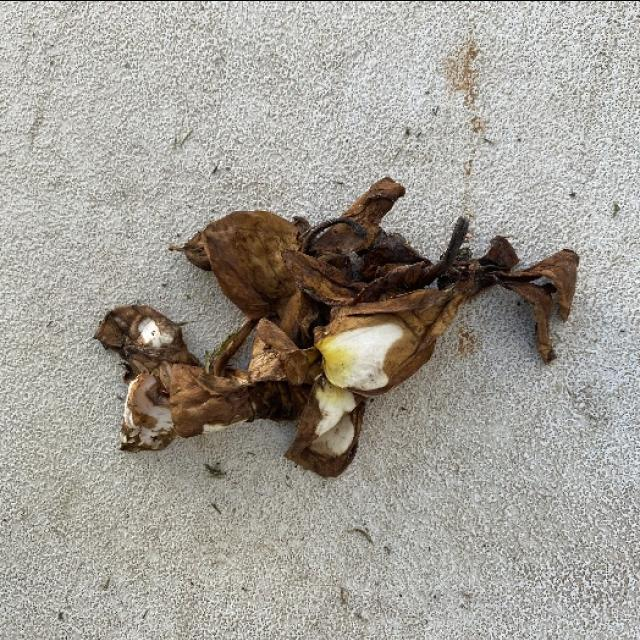organik: (98, 194, 574, 448)
